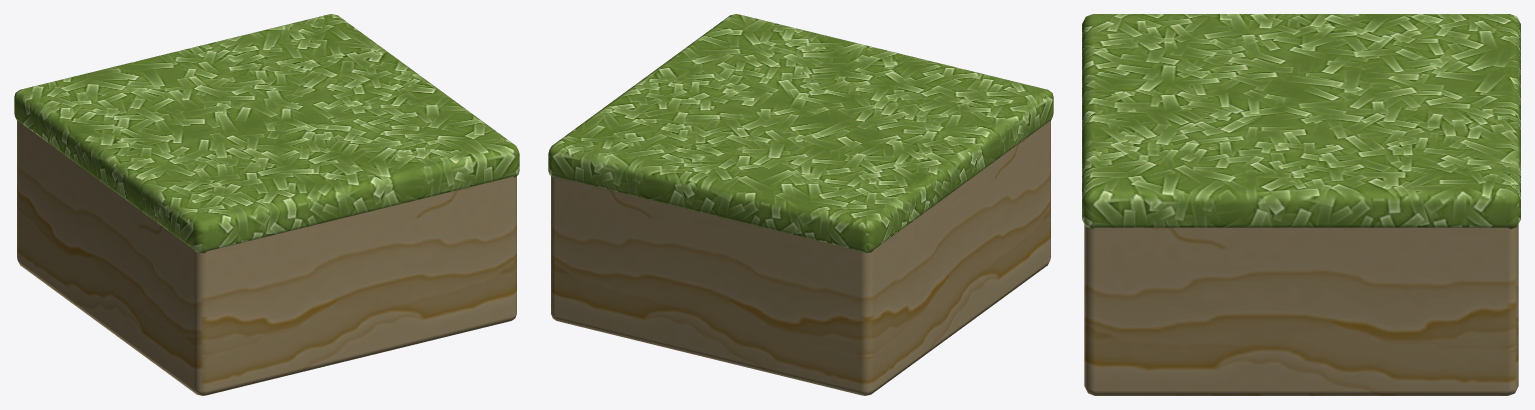
The model's file is SM_Platform_2m_01_A.glb.
3 views of the same model, side by side, from view 1: azimuth 30°, elevation 25°; view 2: azimuth 150°, elevation 25°; view 3: azimuth 270°, elevation 25° (orthographic). The views are drawn at different scales.
Parts seen in each view (by area): view 1: SM_Platform_2m_01_A; view 2: SM_Platform_2m_01_A; view 3: SM_Platform_2m_01_A.
Boxes of the visible parts, box(x1,y1,x2,y2) form: SM_Platform_2m_01_A: box(14, 14, 519, 395); SM_Platform_2m_01_A: box(548, 14, 1053, 395); SM_Platform_2m_01_A: box(1082, 14, 1520, 395).
Size of the model in its own units: 2.02 by 1.05 by 2.02.
Materials: 2 (2 with a texture image).
